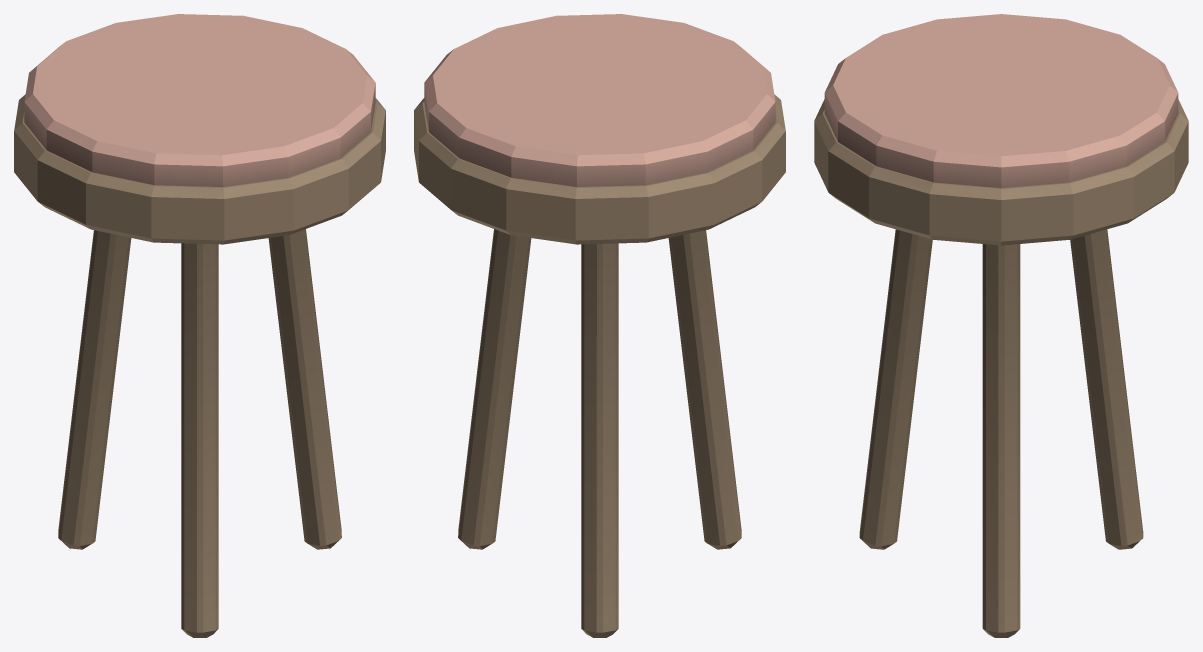
Rendered from furn_stool__walnut.glb.
3 renders of one model, left to right at view 1: azimuth 30°, elevation 25°; view 2: azimuth 150°, elevation 25°; view 3: azimuth 270°, elevation 25°, orthographic.
Bounding box in the file's own units: 0.36 × 0.5197 × 0.36.
